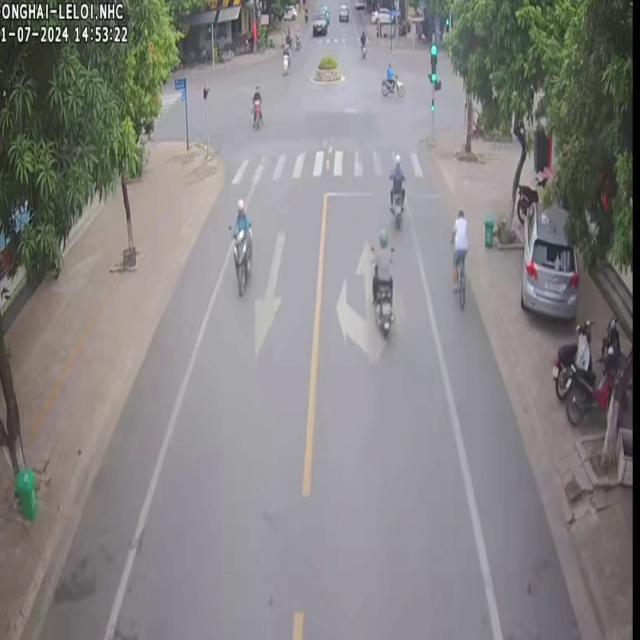car: (519, 200, 578, 318), (310, 9, 326, 36)
green_light: (427, 44, 439, 84)
motobike: (363, 227, 393, 336), (550, 318, 590, 398), (232, 225, 250, 292), (388, 151, 403, 227), (249, 82, 262, 129), (379, 71, 403, 96), (280, 40, 289, 72)
stop_line: (325, 190, 390, 196), (407, 190, 444, 197)
